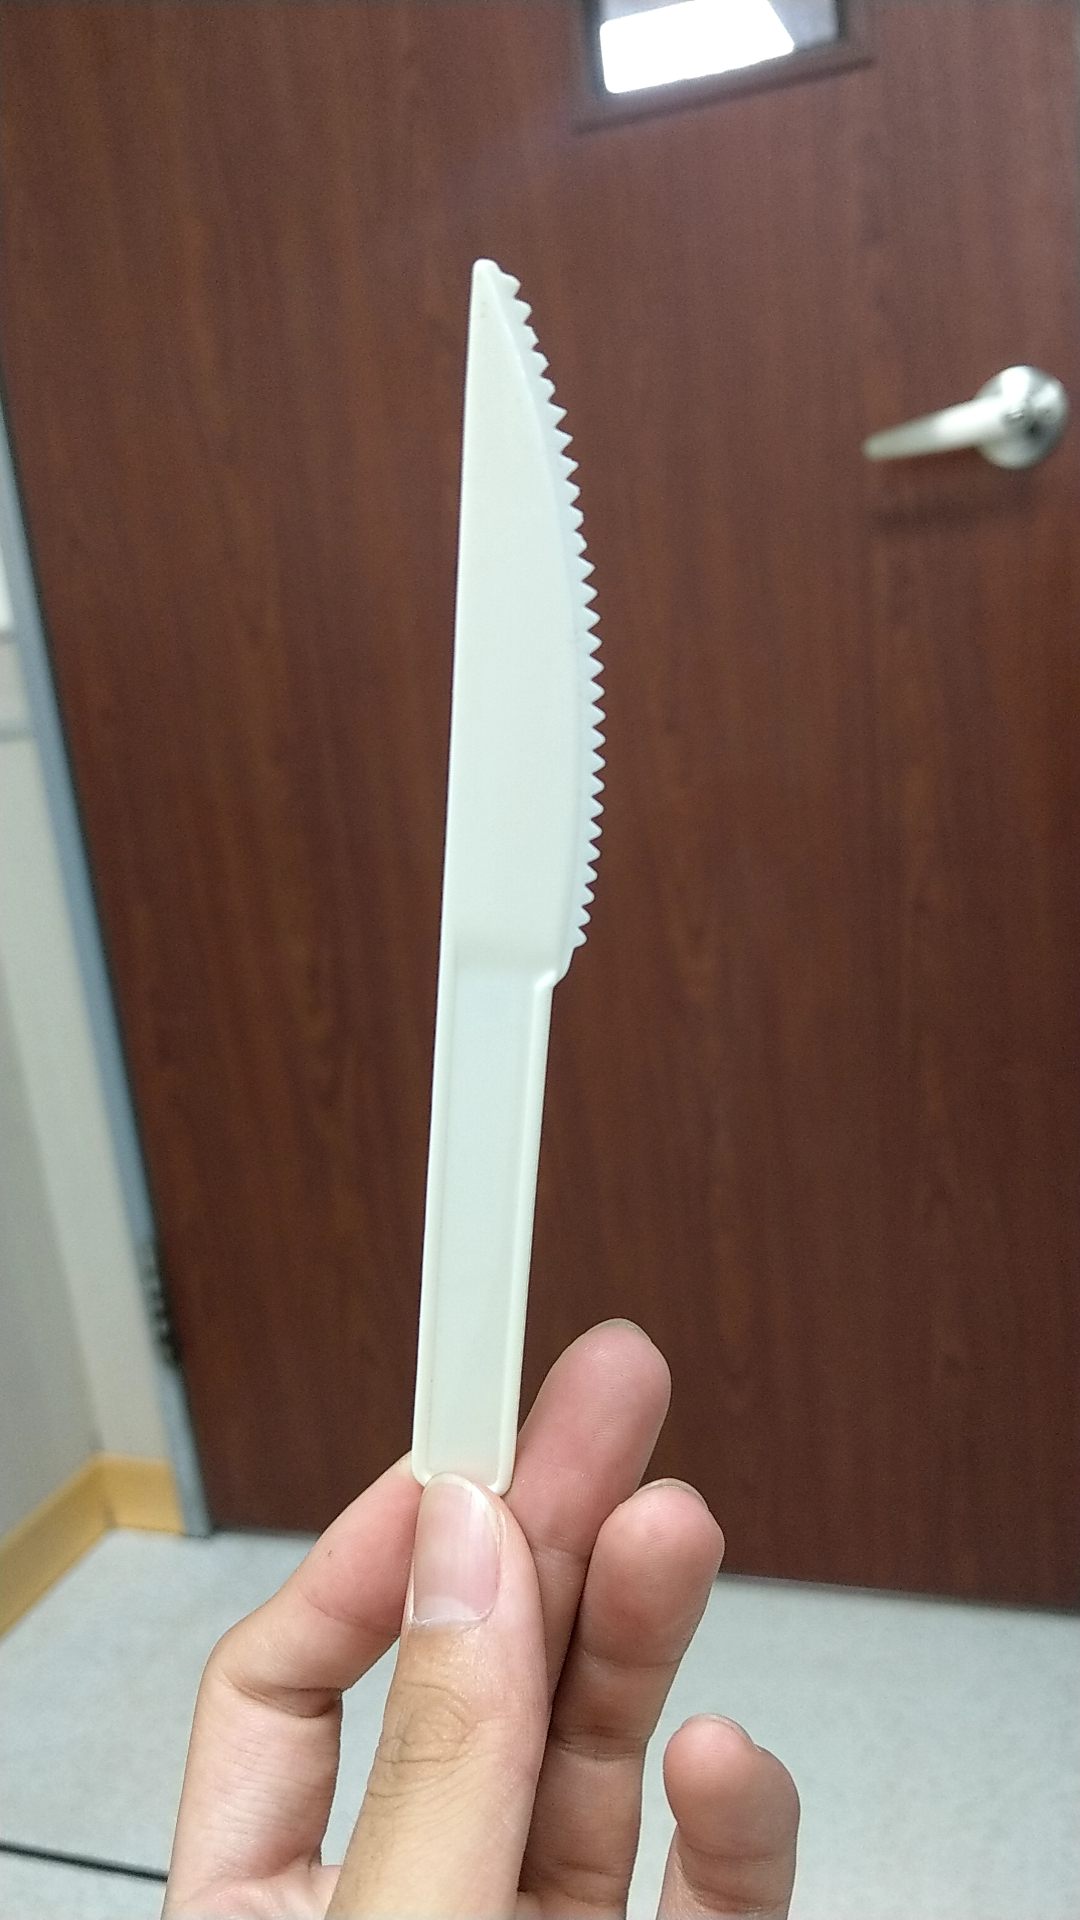knife: (433, 207, 615, 1486)
